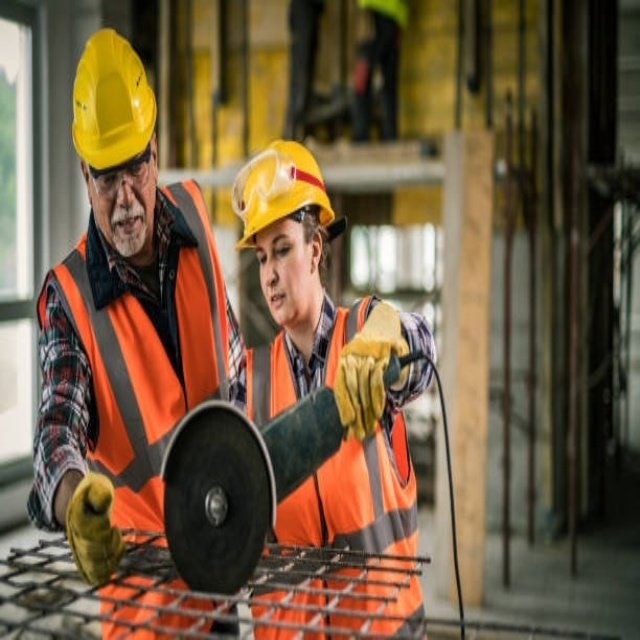Gafas: (85, 143, 154, 195)
Guantes: (332, 301, 410, 440), (65, 471, 125, 589)
Sin_gafas: (255, 229, 294, 270)
Sin_mascara: (106, 212, 151, 253), (262, 285, 296, 324)
